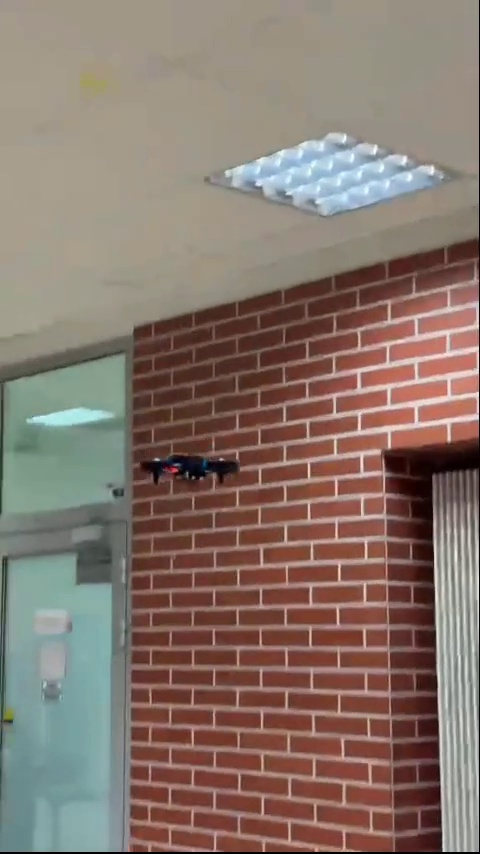drone: (143, 452, 245, 488)
